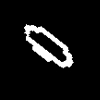chain: (24, 25, 72, 67)
